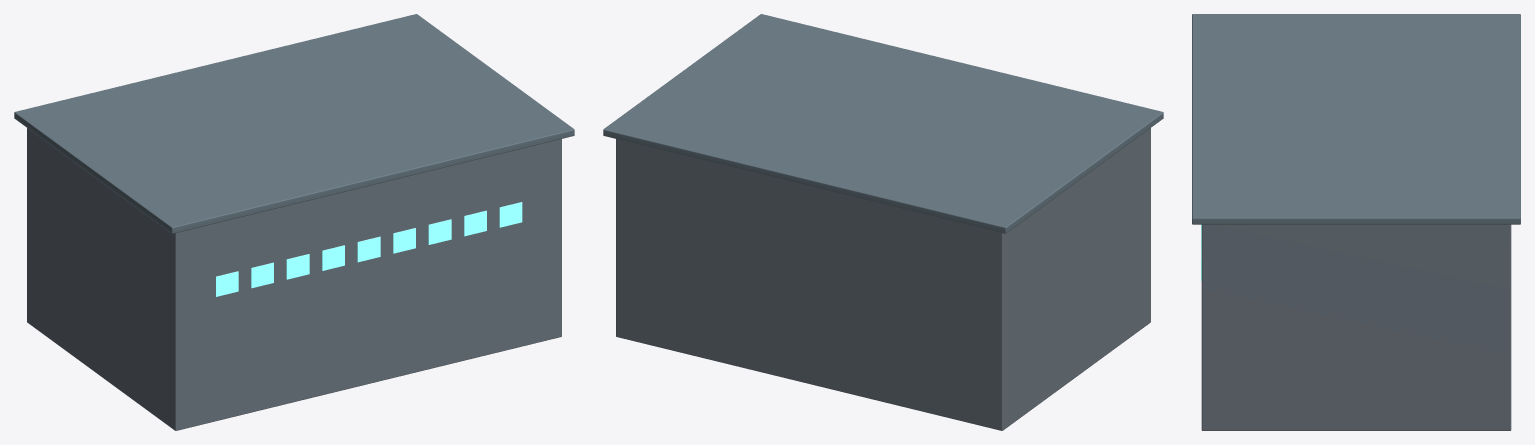
Rendered from SM_FE_DistantBuilding.fbx.
3 views of the same model, side by side, from view 1: azimuth 30°, elevation 25°; view 2: azimuth 150°, elevation 25°; view 3: azimuth 270°, elevation 25° (orthographic). The views are drawn at different scales.
Parts seen in each view (by area): view 1: SM_FE_DistantBuilding; view 2: SM_FE_DistantBuilding; view 3: SM_FE_DistantBuilding.
Boxes of the visible parts, x1,y1,x2,y2 form: SM_FE_DistantBuilding: [14, 14, 574, 430]; SM_FE_DistantBuilding: [603, 14, 1163, 430]; SM_FE_DistantBuilding: [1192, 14, 1520, 430].
Bounding box in the file's own units: 1250 × 850 × 620.
